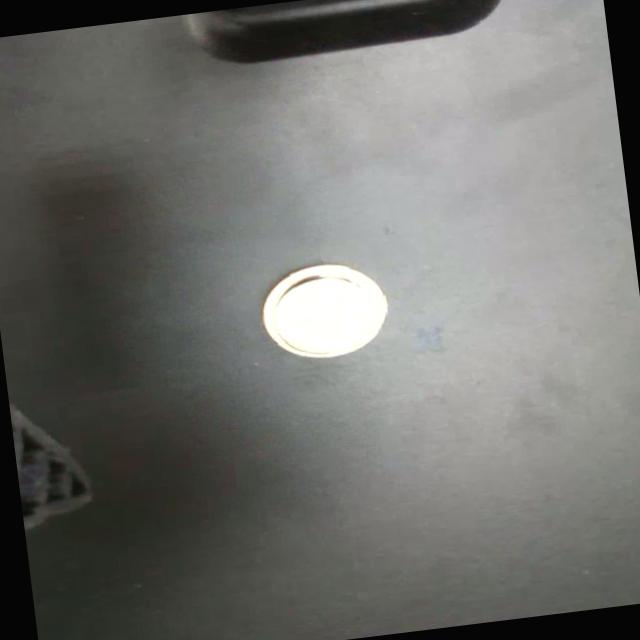sensor: (254, 254, 396, 368)
